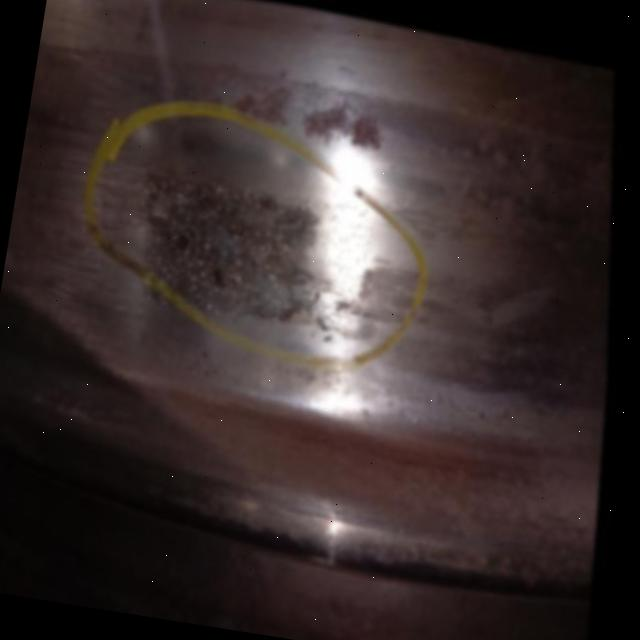Peeling: (126, 169, 369, 338)
